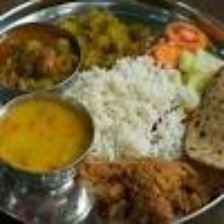dal: (0, 94, 92, 175)
